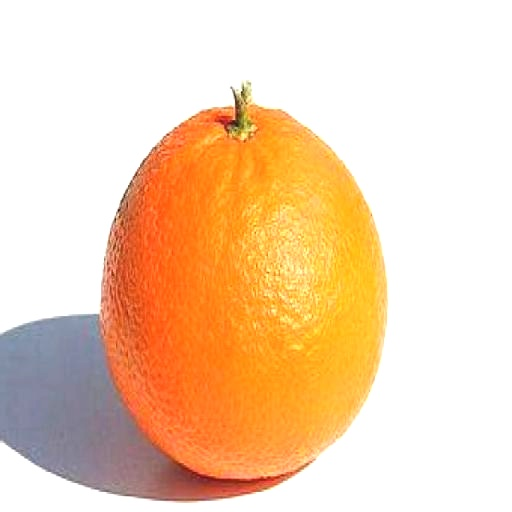fruit: (100, 83, 386, 479)
